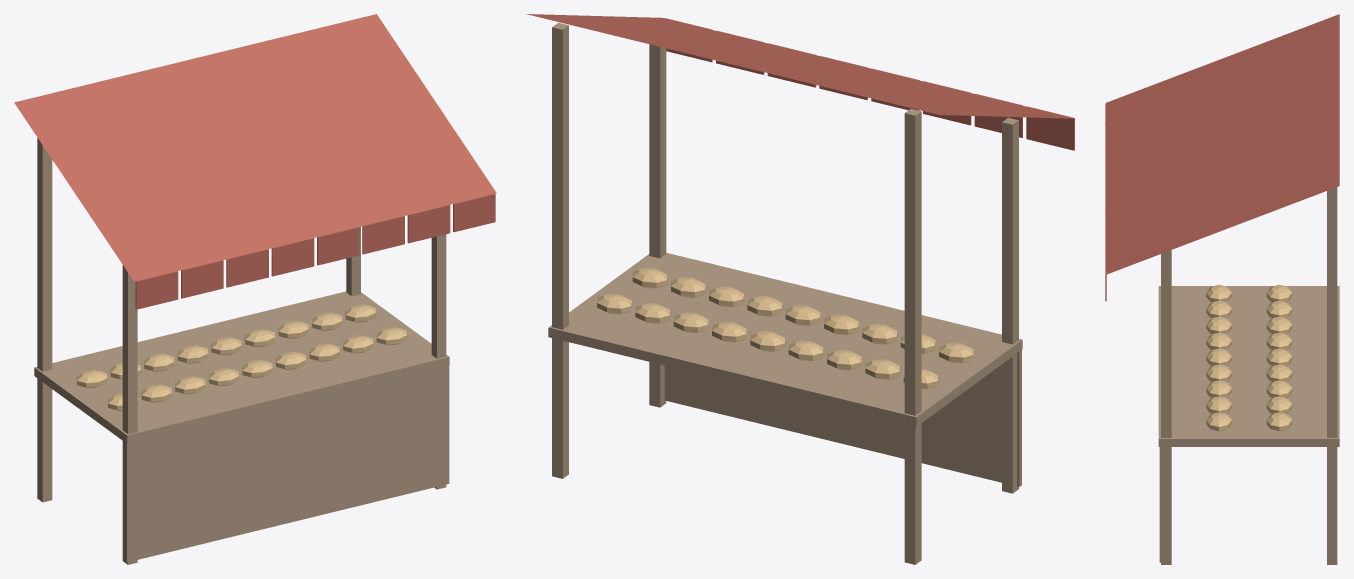
Rendered from stall_bread.glb.
The picture shows the model from 3 angles, left to right: view 1: azimuth 30°, elevation 25°; view 2: azimuth 150°, elevation 25°; view 3: azimuth 270°, elevation 25°; orthographic projection. The views are drawn at different scales.
Parts seen in each view (by area): view 1: stall_awning.002, stall_frame.002, goods_bread; view 2: stall_frame.002, stall_awning.002, goods_bread; view 3: stall_awning.002, stall_frame.002, goods_bread.
Boxes of the visible parts, x1=… form: stall_awning.002: x1=14, y1=14, x2=496, y2=309; stall_frame.002: x1=34, y1=137, x2=449, y2=564; goods_bread: x1=76, y1=304, x2=406, y2=410; stall_frame.002: x1=548, y1=22, x2=1022, y2=564; stall_awning.002: x1=526, y1=14, x2=1074, y2=150; goods_bread: x1=597, y1=268, x2=973, y2=389; stall_awning.002: x1=1105, y1=14, x2=1339, y2=301; stall_frame.002: x1=1158, y1=187, x2=1339, y2=564; goods_bread: x1=1206, y1=284, x2=1292, y2=431.
Bounding box in the file's own units: 2.7 × 2.85 × 1.56.
